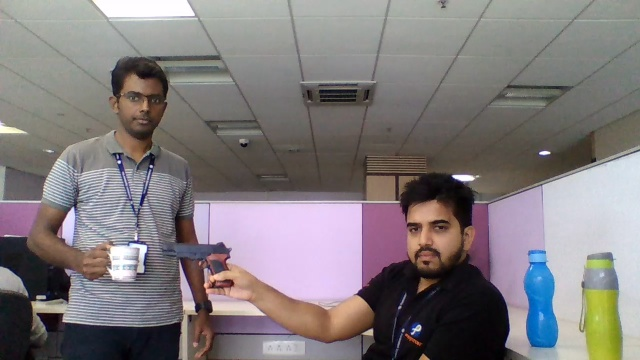gun: (156, 237, 231, 265)
